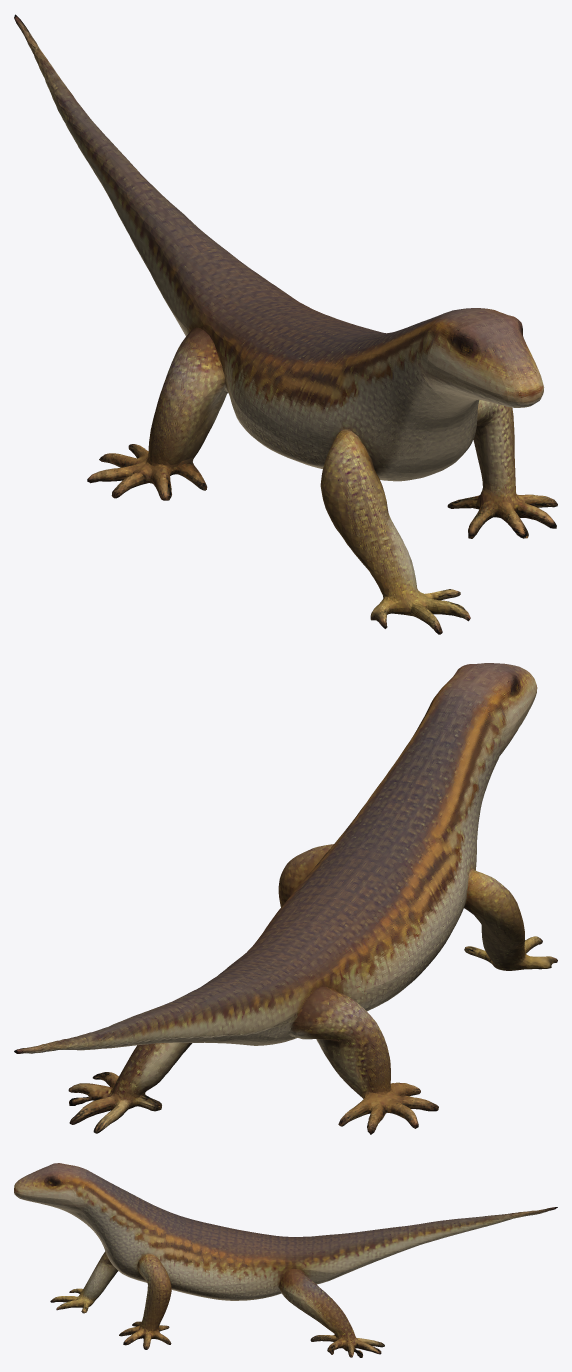
The picture shows the model from 3 angles, top to bottom: view 1: azimuth 30°, elevation 25°; view 2: azimuth 150°, elevation 25°; view 3: azimuth 270°, elevation 25°; orthographic projection. The views are drawn at different scales.
Visible parts, largest first — view 1: world; view 2: world; view 3: world.
Part boxes in pixels (x1,y1,x2,y2): world: [14, 14, 557, 634]; world: [14, 663, 557, 1134]; world: [14, 1163, 557, 1357].
Bounding box in the file's own units: 0.078 × 0.0684 × 0.22.
Materials: 1 (1 with a texture image).
